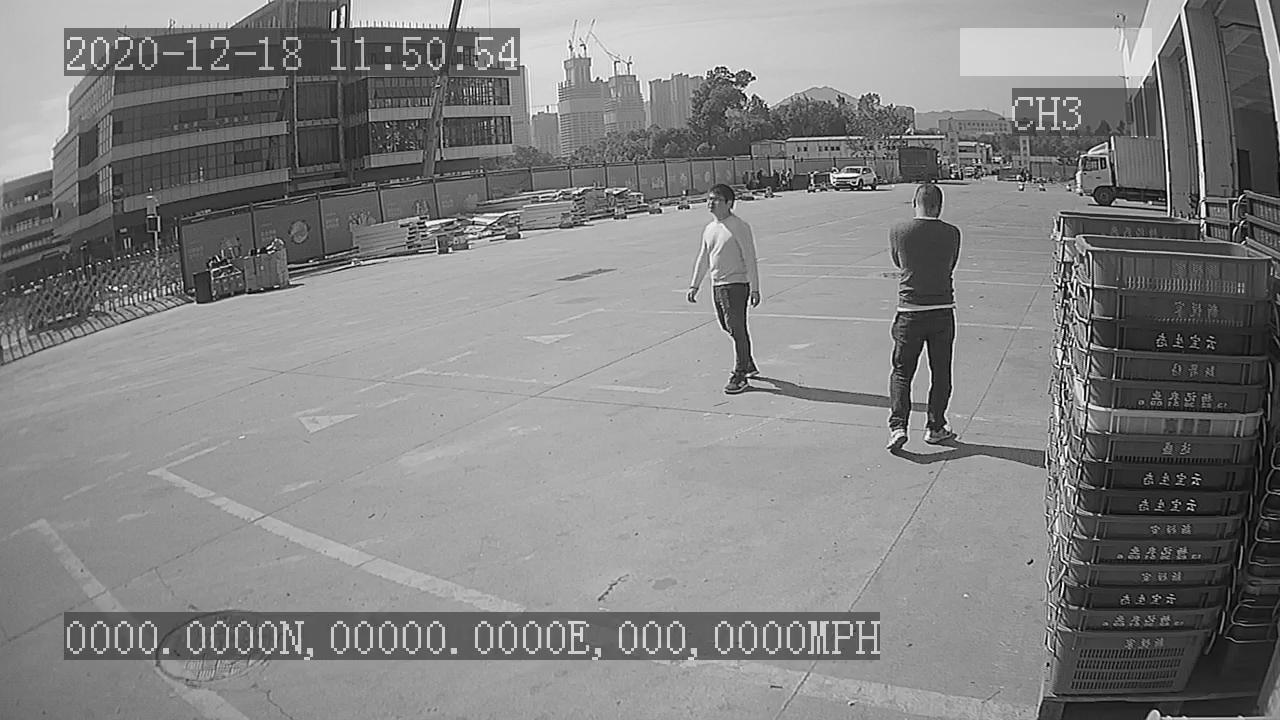person: (881, 179, 970, 458), (681, 183, 768, 397)
